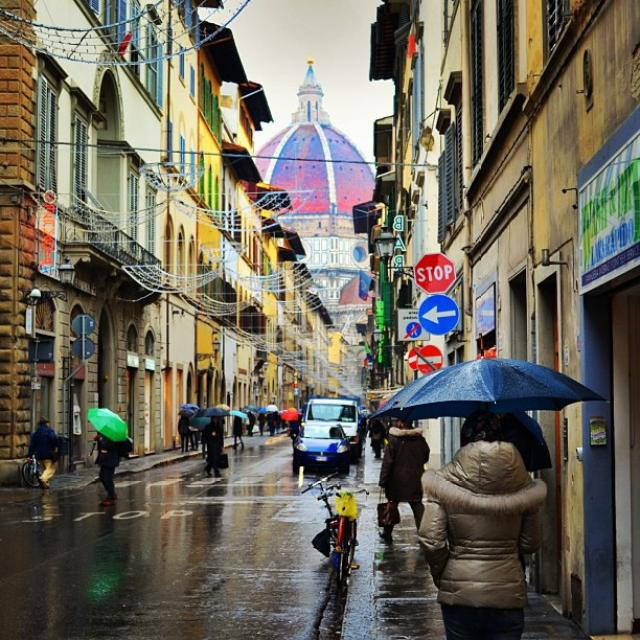Vehicle: (304, 398, 362, 463), (290, 422, 350, 473)
